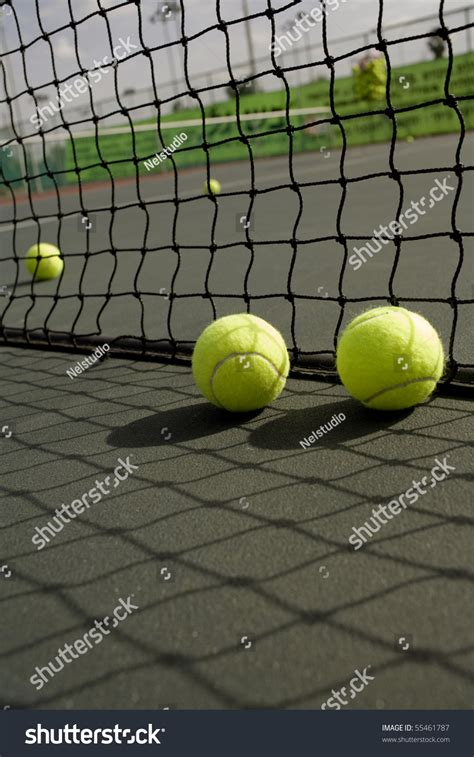tennis_ball: (334, 304, 444, 411), (189, 312, 290, 412), (25, 243, 64, 281)
